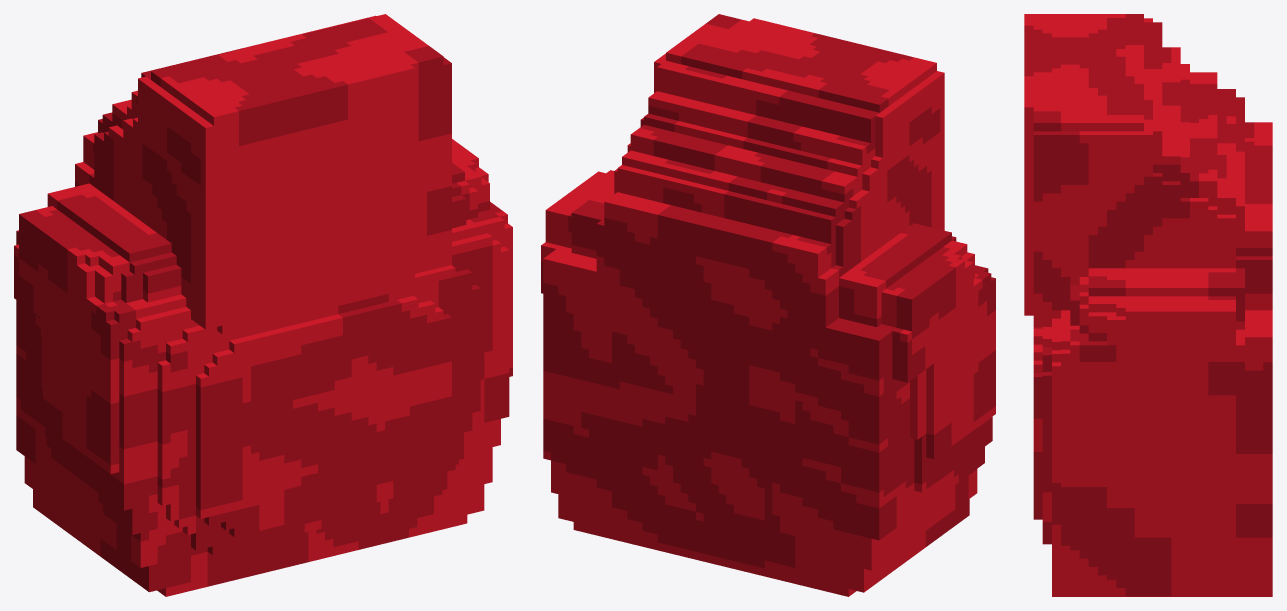
The model's file is MeleeRogatiy-3.obj.
3 renders of one model, left to right at view 1: azimuth 30°, elevation 25°; view 2: azimuth 150°, elevation 25°; view 3: azimuth 270°, elevation 25°, orthographic. The views are drawn at different scales.
Bounding box in the file's own units: 4.8 × 5.5 × 2.7.
Materials: 1 (1 with a texture image).
